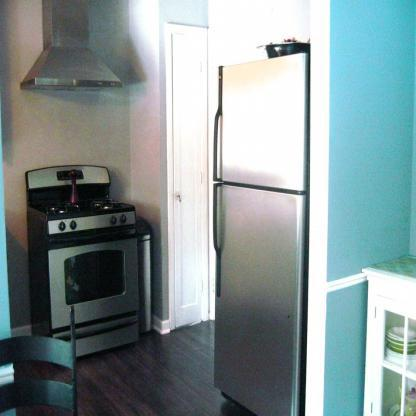door: (169, 28, 205, 312)
hinged: (200, 280, 204, 292), (200, 172, 203, 185), (200, 62, 202, 73)
lever: (173, 192, 182, 202)
